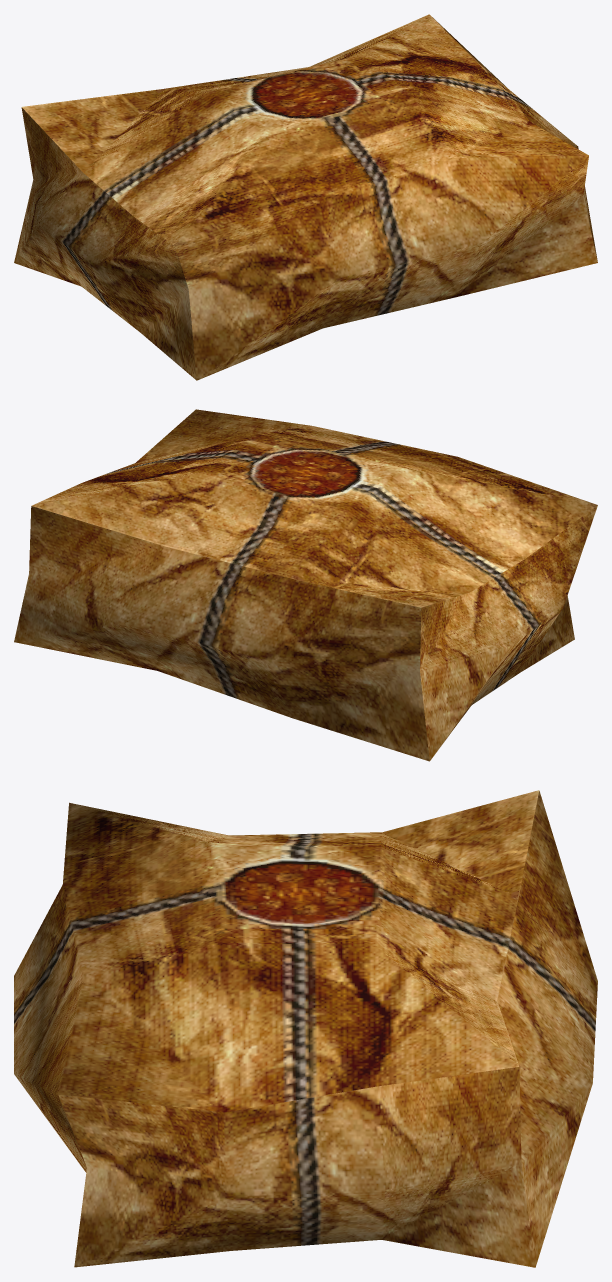
File: packet.glb
3 views of the same model, one above another, from view 1: azimuth 30°, elevation 25°; view 2: azimuth 150°, elevation 25°; view 3: azimuth 270°, elevation 25° (orthographic). The views are drawn at different scales.
Visible parts, largest first — view 1: packet; view 2: packet; view 3: packet.
Part boxes in pixels (x1,y1,x2,y2): packet: (14,14,597,380); packet: (14,409,597,761); packet: (14,790,597,1267).
Size of the model in its own units: 0.7465 by 0.3084 by 0.5516.
1 material, 1 textured.
